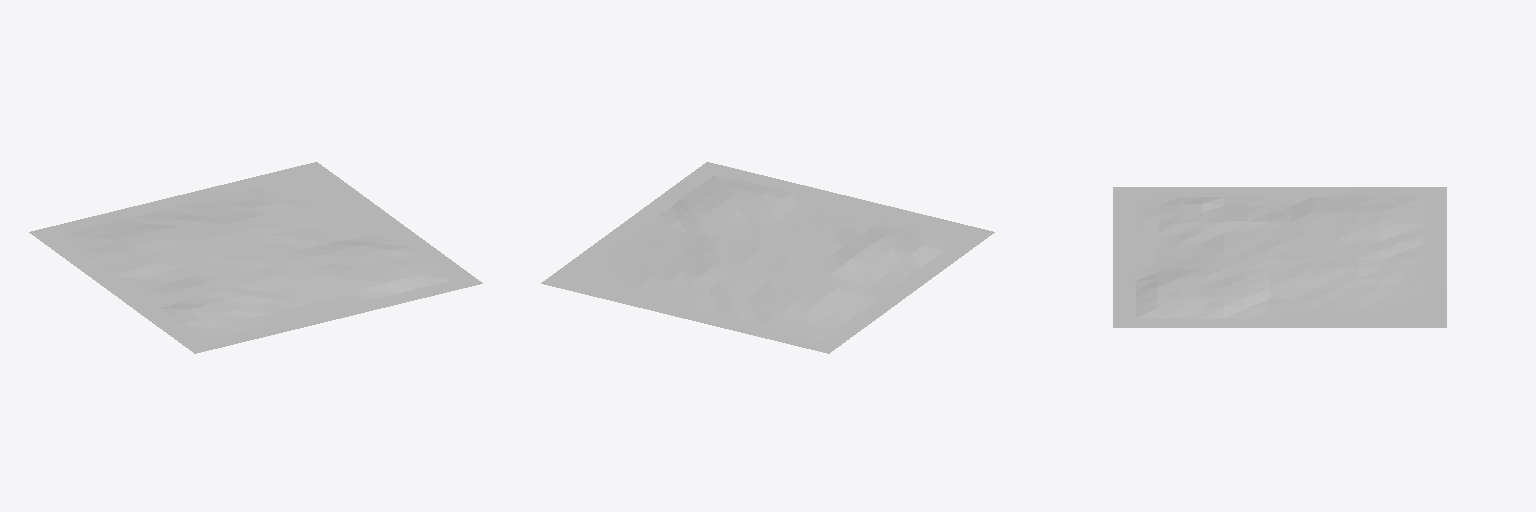
File: ground_8.obj
3 views of the same model, side by side, from view 1: azimuth 30°, elevation 25°; view 2: azimuth 150°, elevation 25°; view 3: azimuth 270°, elevation 25° (orthographic).
Parts seen in each view (by area): view 1: Plane001; view 2: Plane001; view 3: Plane001.
Part boxes in pixels (left/top/right/bottom): Plane001: left=29, top=162, right=482, bottom=353; Plane001: left=541, top=162, right=994, bottom=353; Plane001: left=1113, top=187, right=1446, bottom=327.
Bounding box in the file's own units: 64000 × 786 × 64000.